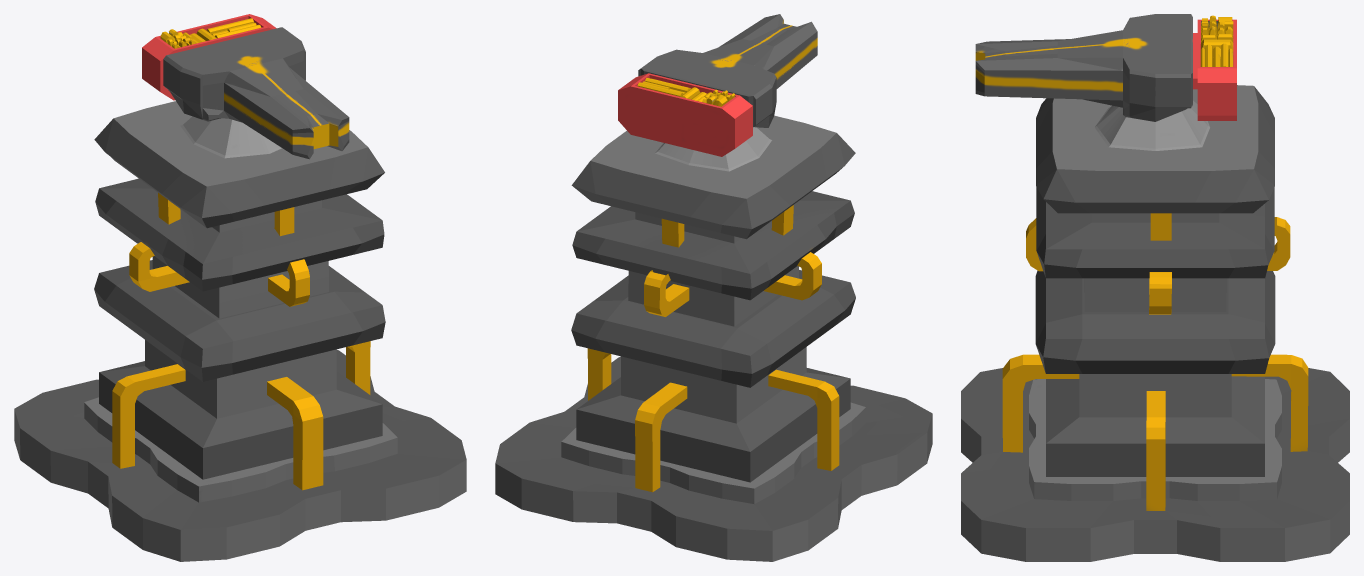
File: CANON_2real.fbx
3 renders of one model, left to right at view 1: azimuth 30°, elevation 25°; view 2: azimuth 150°, elevation 25°; view 3: azimuth 270°, elevation 25°, orthographic. The views are drawn at different scales.
Parts seen in each view (by area): view 1: Base, HEAD; view 2: Base, HEAD; view 3: Base, HEAD.
Boxes of the visible parts, bbox=[...] form: Base: bbox=[14, 101, 466, 561]; HEAD: bbox=[142, 14, 349, 159]; Base: bbox=[495, 115, 932, 561]; HEAD: bbox=[618, 14, 817, 171]; Base: bbox=[961, 85, 1349, 561]; HEAD: bbox=[975, 14, 1236, 150].
Bounding box in the file's own units: 200 × 251 × 200.
